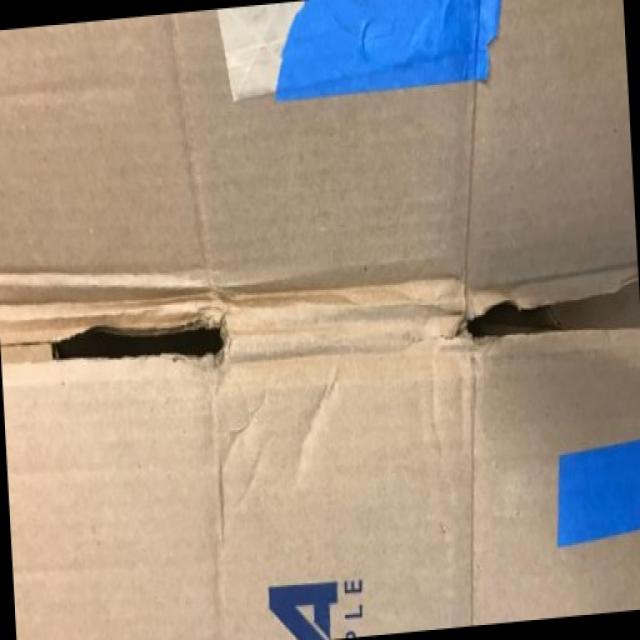carton: (20, 113, 409, 512)
